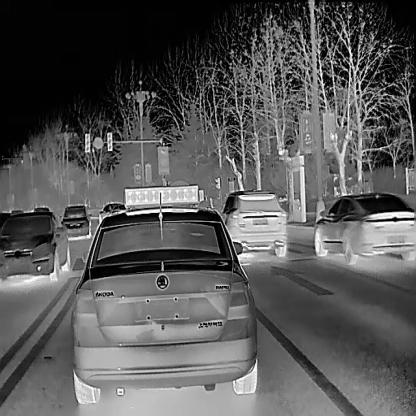car: (72, 182, 257, 404), (314, 190, 416, 263), (0, 211, 69, 281), (220, 188, 288, 256), (60, 203, 92, 240), (98, 202, 126, 223)
